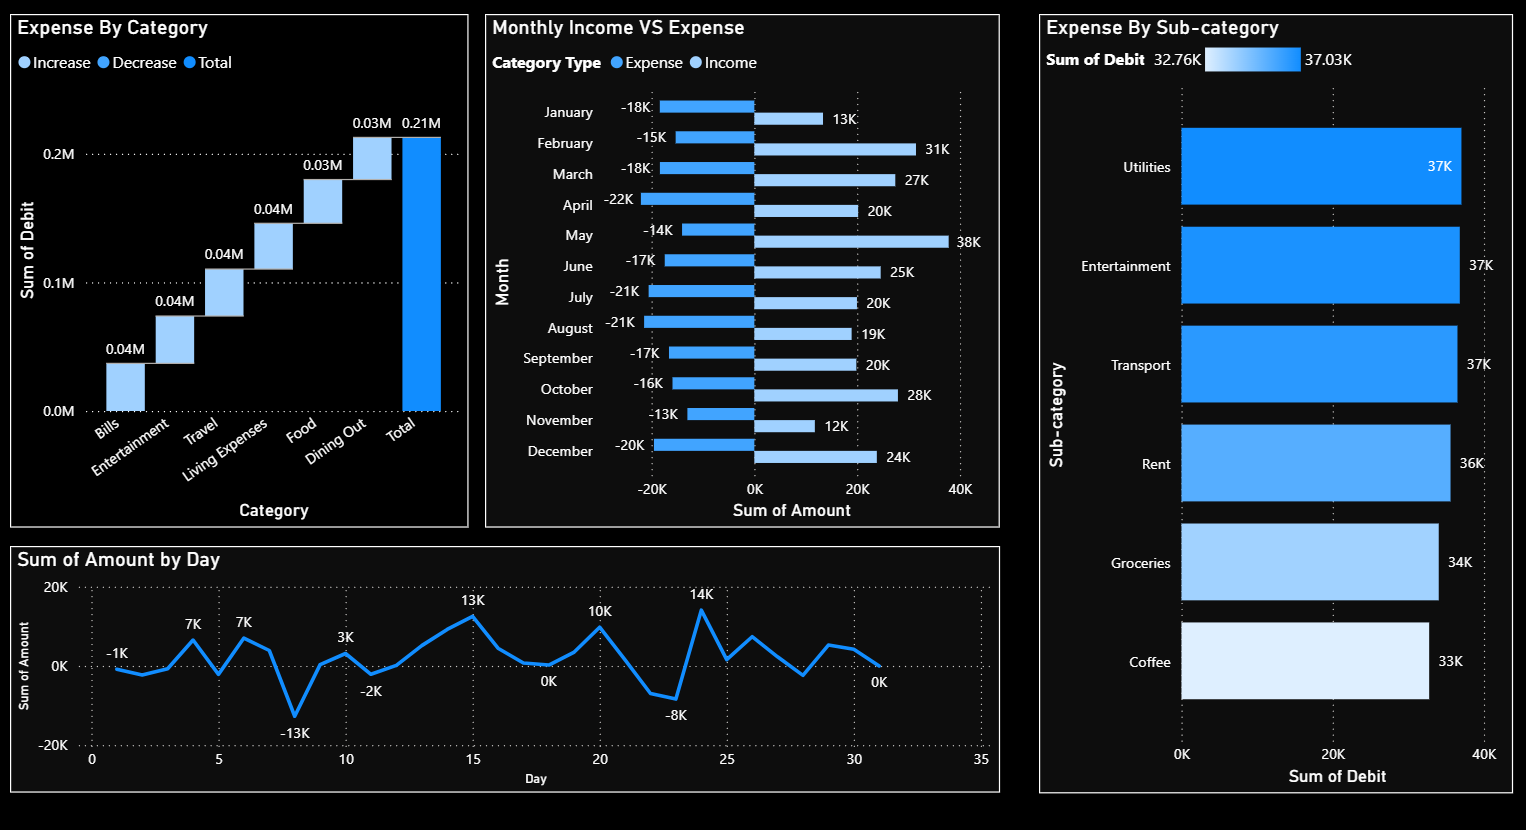

This screenshot's page, from the dashboard's own definition file:
{"tool":"powerbi","page":{"name":"Page 1","canvas":[1280,720],"ordinal":1},"visuals":[{"type":"waterfallChart","title":"Expense By Category","fields":{"Category":["Generated_Finance_Expenses (2).Category"],"Y":["Sum(Generated_Finance_Expenses (2).Debit)"]},"box":[13.6,16.5,383.2,428.9],"z":0},{"type":"clusteredBarChart","title":"Monthly Income VS Expense","fields":{"Category":["Generated_Finance_Expenses (2).Date.Variation.Date Hierarchy.Month"],"Y":["Sum(Generated_Finance_Expenses (2).Amount)"],"Series":["Generated_Finance_Expenses (2).Category Type"]},"box":[410.5,16.5,429.9,428.9],"z":1},{"type":"lineChart","fields":{"Y":["Sum(Generated_Finance_Expenses (2).Amount)"],"Category":["Generated_Finance_Expenses (2).Date.Variation.Date Hierarchy.Day"]},"box":[13.6,461,826.7,188.7],"z":2},{"type":"clusteredBarChart","title":"Expense By Sub-category","fields":{"Category":["Generated_Finance_Expenses (2).Sub-category"],"Y":["Sum(Generated_Finance_Expenses (2).Debit)"]},"box":[872.5,16.5,395.9,650.7],"z":3}]}

Visuals, with their boxes on the page's 1280x720 design canvas (x1, y1, x2, y2). These are canvas units, not pixel positions in the 1526x830 screenshot, which may show the page scaled, cropped or inside an application window:
"Expense By Category" waterfallChart: box=[14, 16, 397, 445]
"Monthly Income VS Expense" clusteredBarChart: box=[410, 16, 840, 445]
lineChart - Sum(Generated_Finance_Expenses (2).Amount) x Generated_Finance_Expenses (2).Date.Variation.Date Hierarchy.Day: box=[14, 461, 840, 650]
"Expense By Sub-category" clusteredBarChart: box=[872, 16, 1268, 667]
